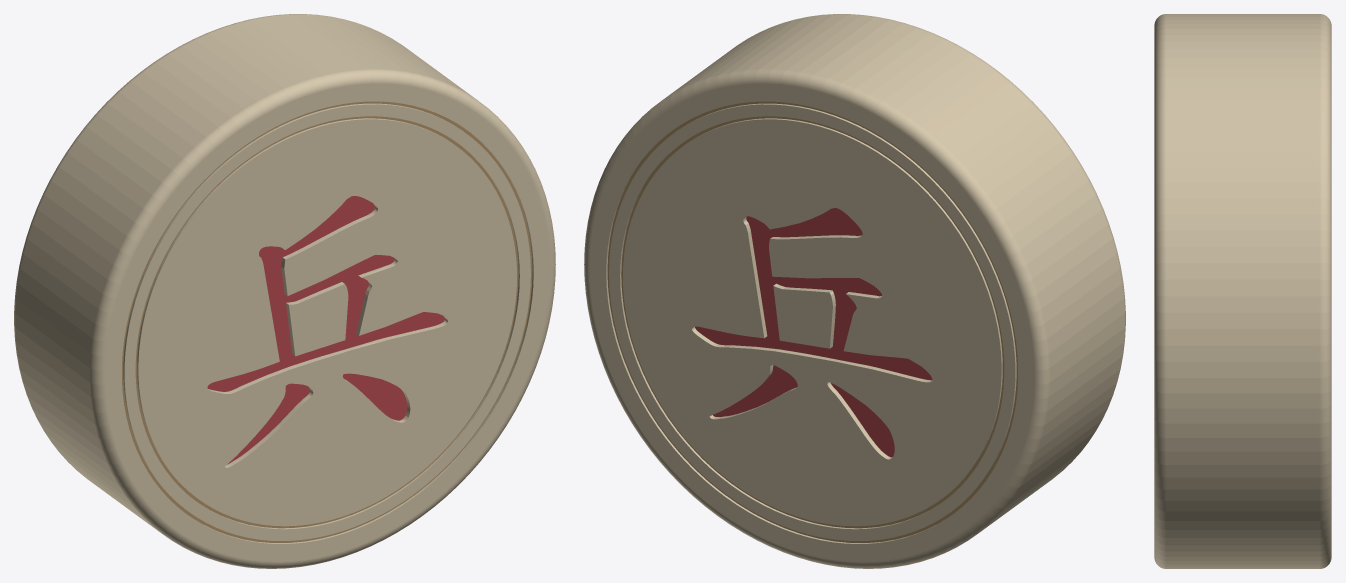
3 renders of one model, left to right at view 1: azimuth 30°, elevation 25°; view 2: azimuth 150°, elevation 25°; view 3: azimuth 270°, elevation 25°, orthographic. The views are drawn at different scales.
Visible parts, largest first — view 1: wood, engraved_letters, engraved_border; view 2: wood, engraved_letters, engraved_border; view 3: wood.
Boxes of the visible parts, x1=… form: wood: x1=14, y1=14, x2=555, y2=568; engraved_letters: x1=207, y1=196, x2=444, y2=464; engraved_border: x1=122, y1=101, x2=532, y2=542; wood: x1=584, y1=14, x2=1125, y2=568; engraved_letters: x1=695, y1=208, x2=932, y2=457; engraved_border: x1=607, y1=101, x2=1017, y2=542; wood: x1=1154, y1=14, x2=1331, y2=568.
Bounding box in the file's own units: 0.047 × 0.047 × 0.015.
